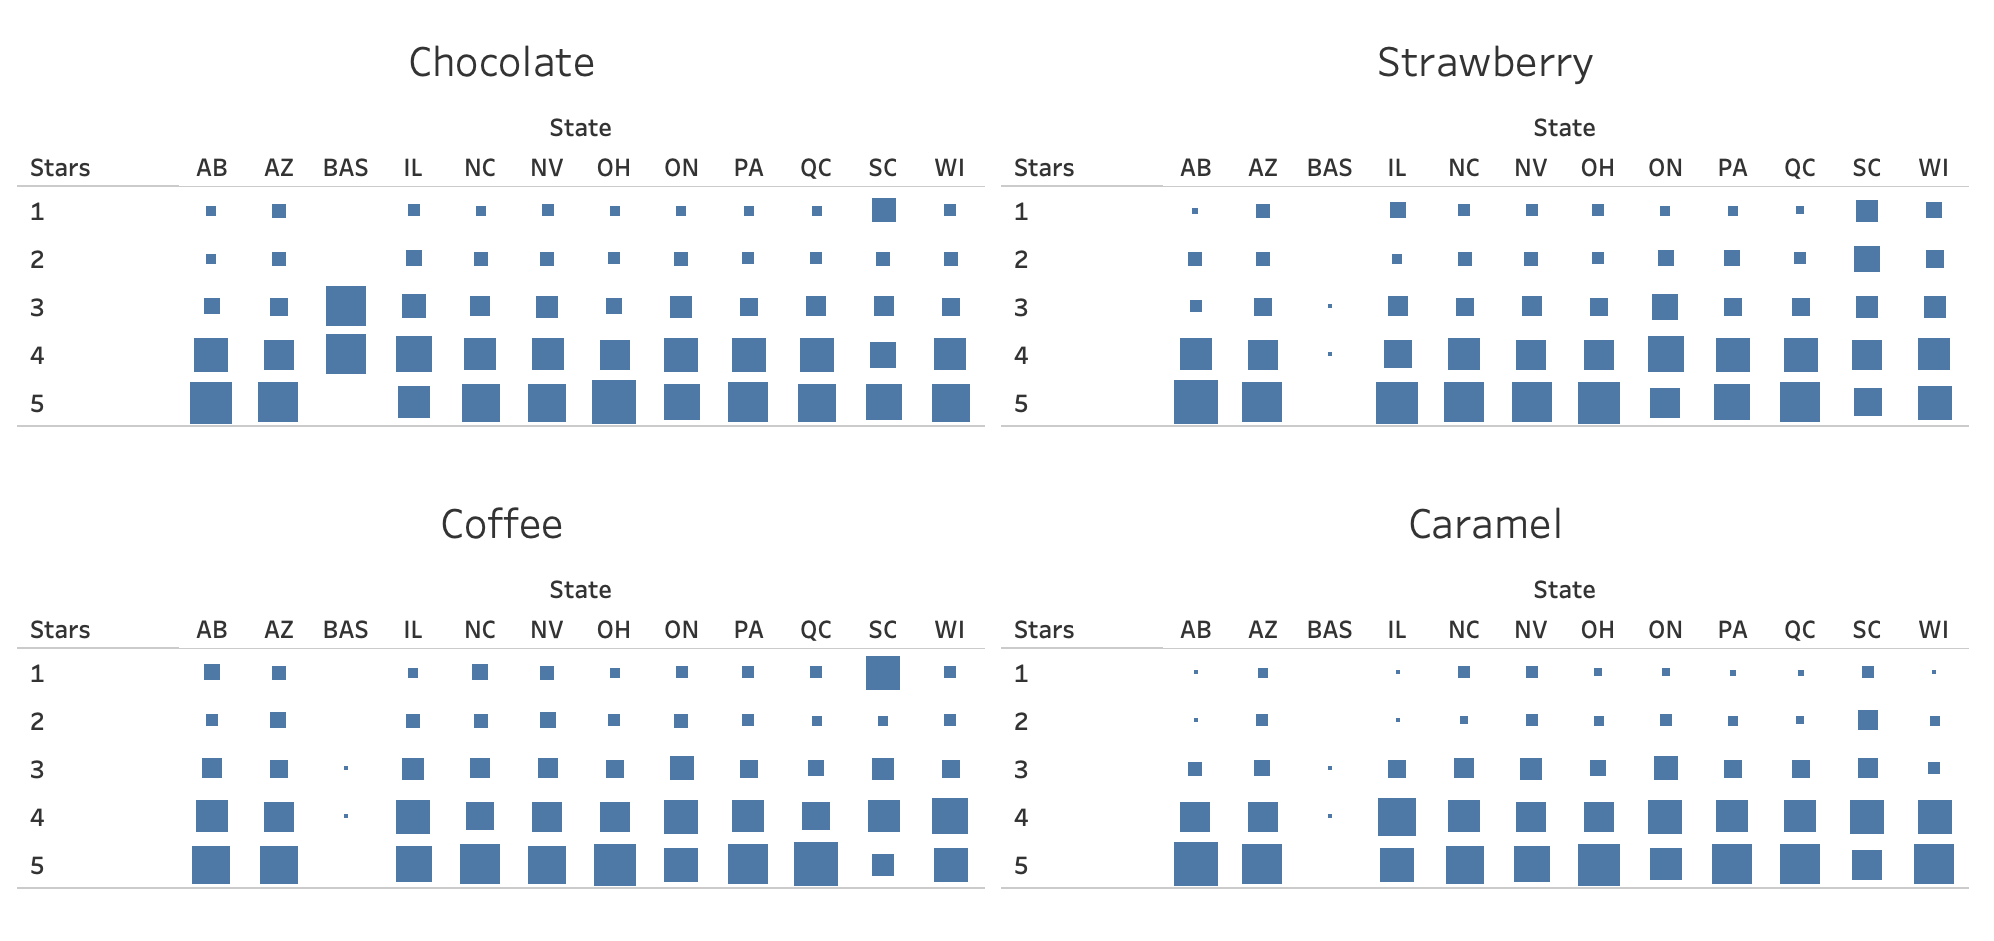

The dashboard page shown, as its layout file describes it:
{"tool":"tableau","page":{"name":"flavour","canvas":[1000,800],"ordinal":2},"visuals":[{"type":"worksheet","title":"Chocolate","mark":"Automatic","rows":["stars"],"cols":["state"],"box":[8,8,492,231]},{"type":"worksheet","title":"Strawberry","mark":"Automatic","rows":["stars"],"cols":["state"],"box":[500,8,492,231]},{"type":"worksheet","title":"Coffee","mark":"Automatic","rows":["stars"],"cols":["state"],"box":[8,239,492,553]},{"type":"worksheet","title":"Caramel","mark":"Automatic","rows":["stars"],"cols":["state"],"box":[500,239,492,553]}]}

Visuals, with their boxes on the page's 1000x800 design canvas (x1, y1, x2, y2). These are canvas units, not pixel positions in the 1994x941 screenshot, which may show the page scaled, cropped or inside an application window:
"Chocolate" worksheet: bbox=(8, 8, 500, 239)
"Strawberry" worksheet: bbox=(500, 8, 992, 239)
"Coffee" worksheet: bbox=(8, 239, 500, 792)
"Caramel" worksheet: bbox=(500, 239, 992, 792)
